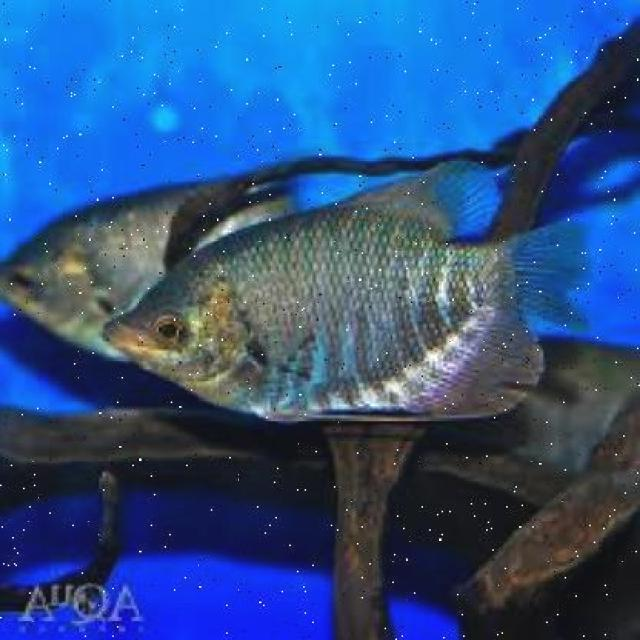gurame: (108, 175, 536, 440)
